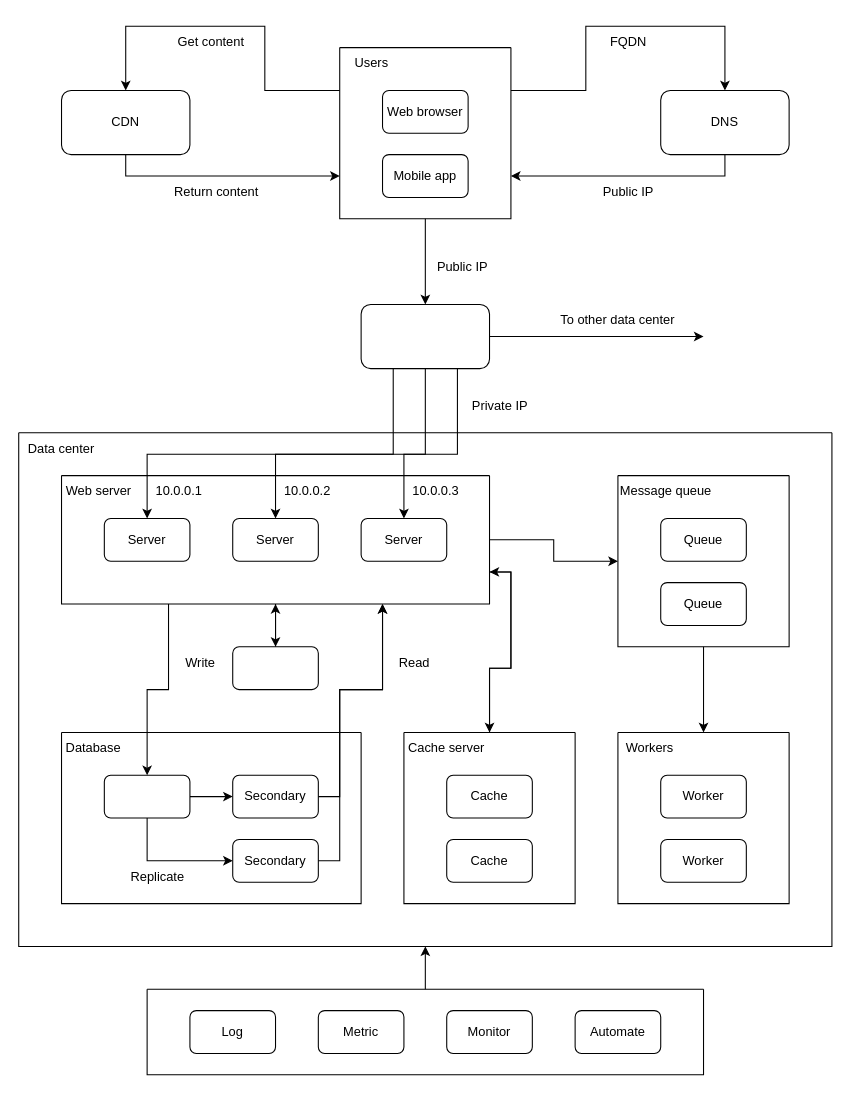
Some shapes in this 851 by 1094 pixel diagram are drawn without their labels. Each missing label, with the centre of its shape:
"Load balancer" belongs at (425,336).
"NoSQL" belongs at (275,668).
"Primary" belongs at (146,796).
